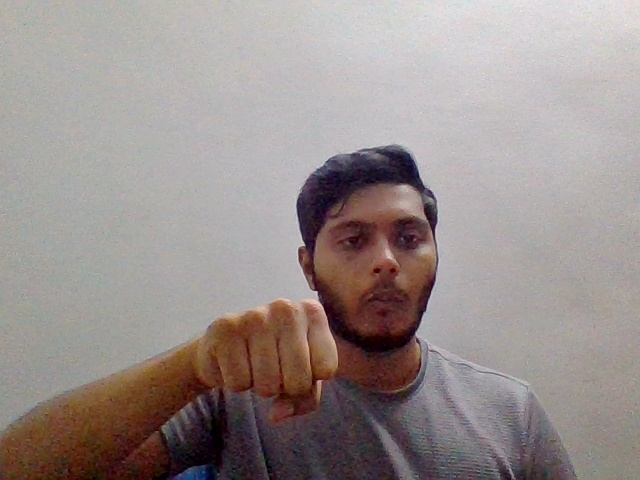Yes: (184, 293, 344, 427)
